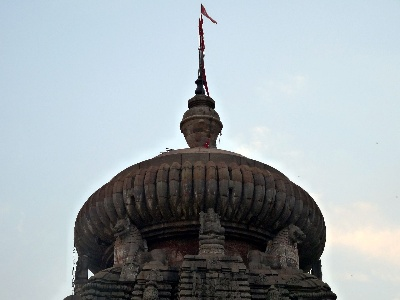amalaka: (68, 138, 349, 272)
